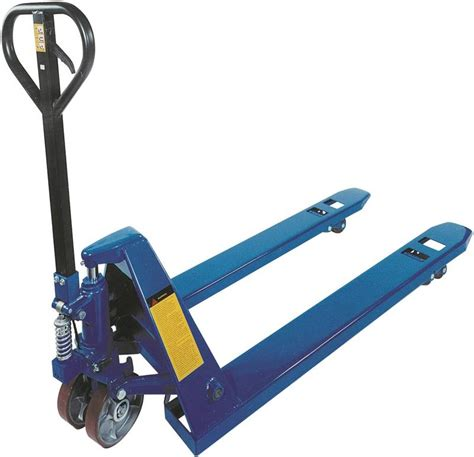Pallet Jack: (2, 1, 472, 457)
